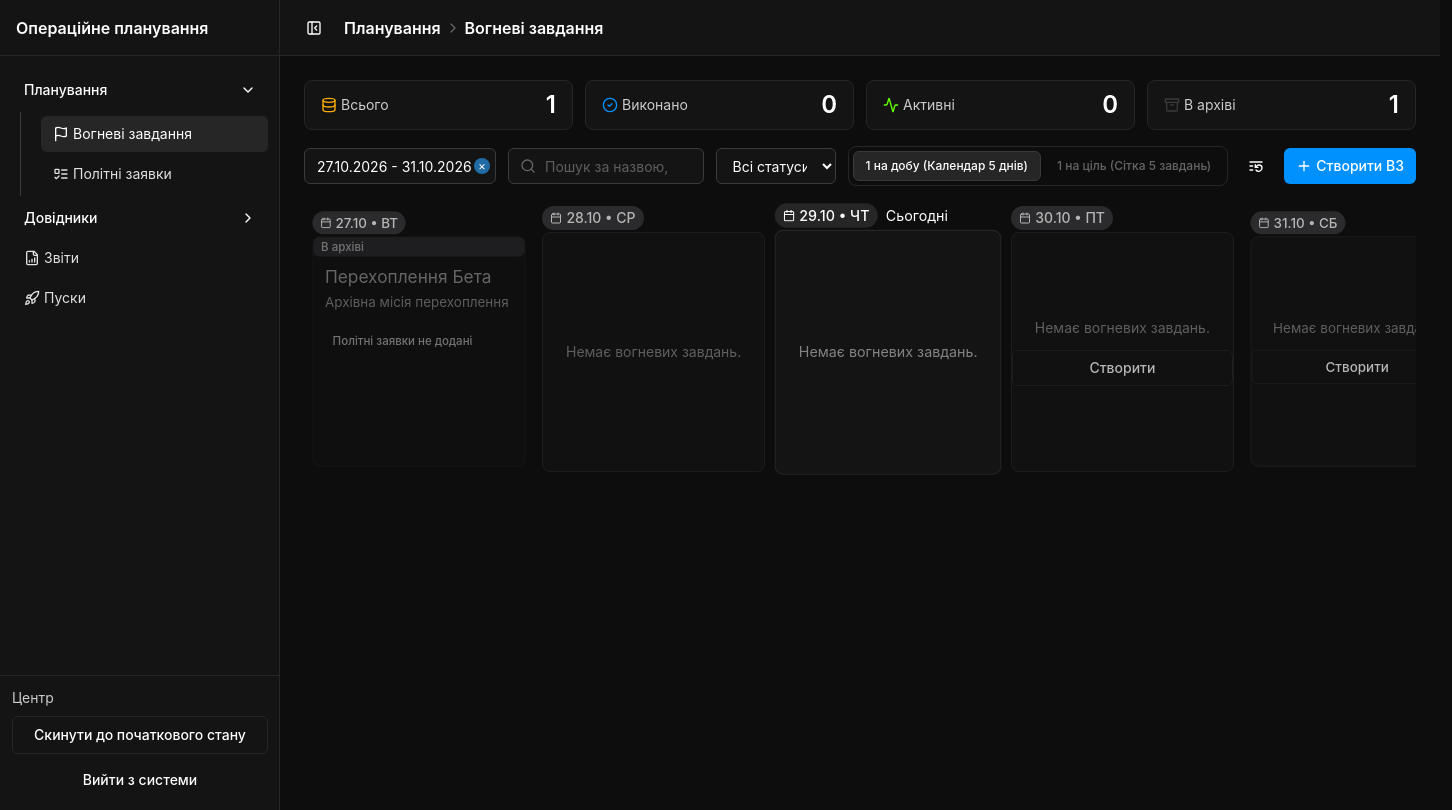
Test: Stage 1 QA › uses the required sidebar toggle icons for open and closed states
The width and height of the screenshot is (1452, 810).
Expected: the icon with class "lucide-panel-left-close" is shown, [306,20,322,36]
Click the button named "Перемкнути бічну панель": coordinates (314, 28) [296,10,332,46]
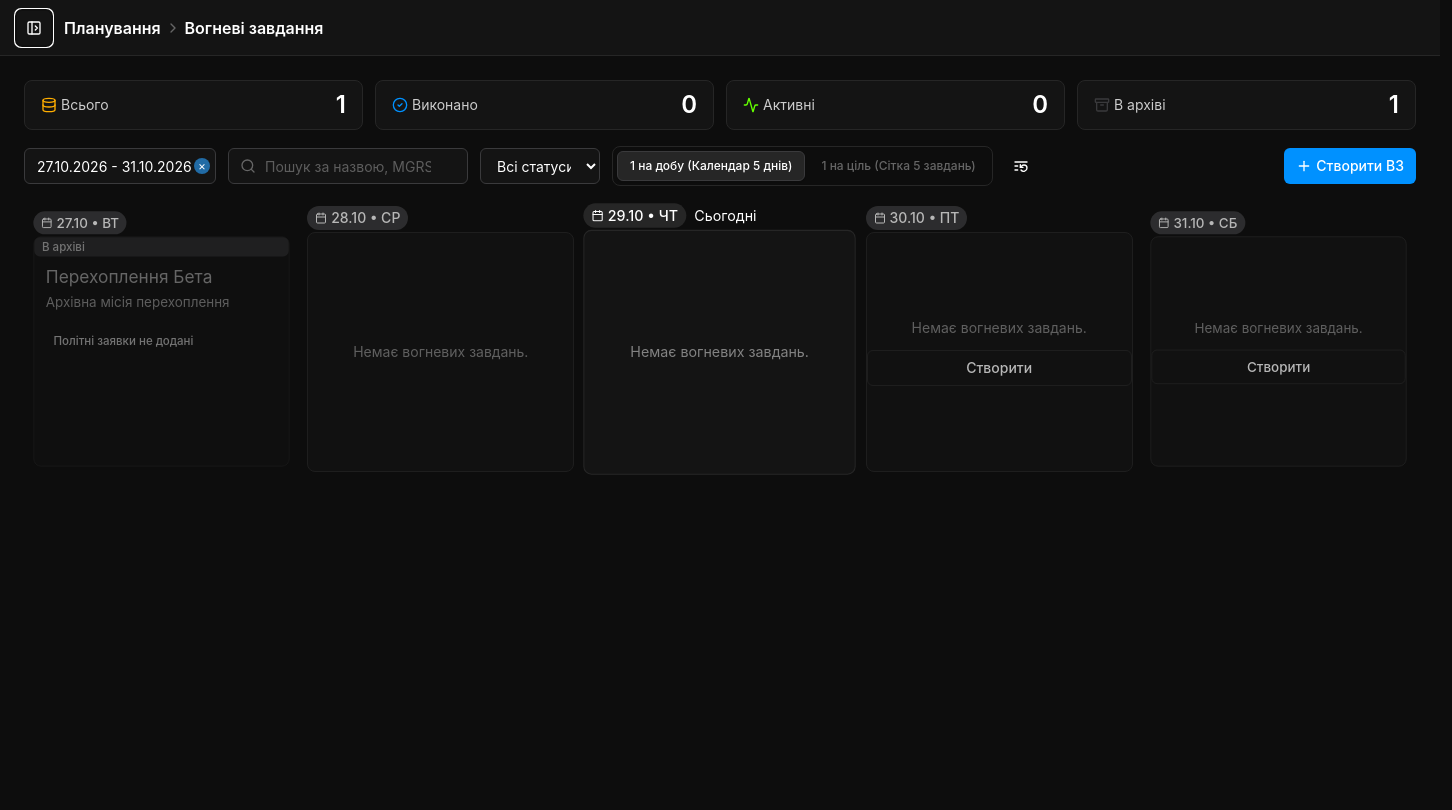
Now the icon with class "lucide-panel-left-open" is shown, box [26,20,42,36]
